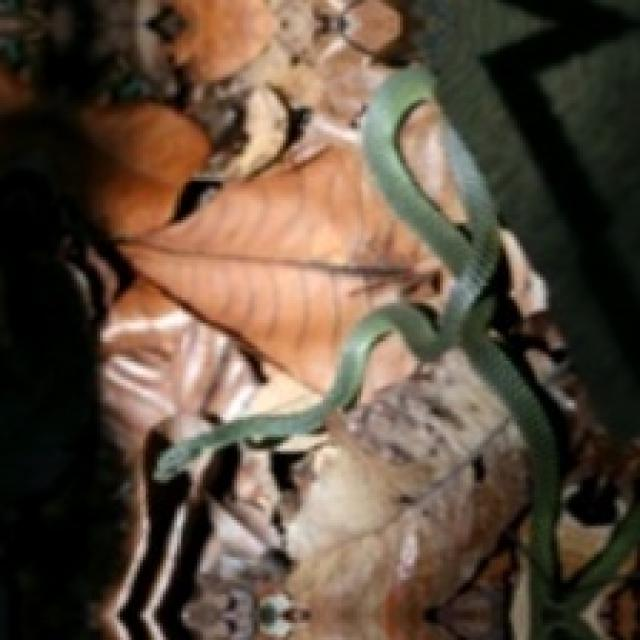paradise tree snake: (154, 66, 559, 577)
